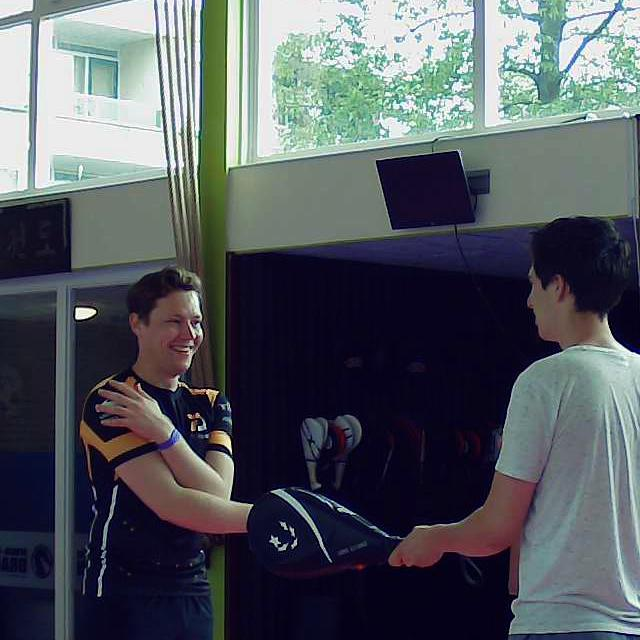paddle: (244, 486, 415, 580)
